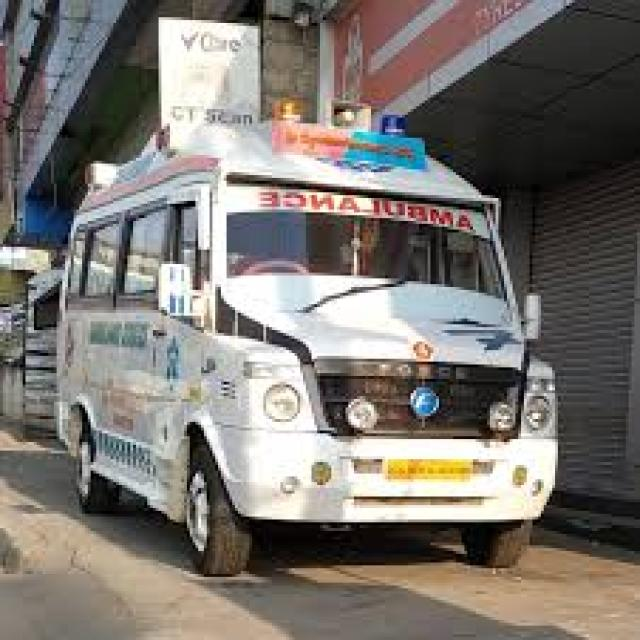ambulance: (57, 123, 552, 571)
